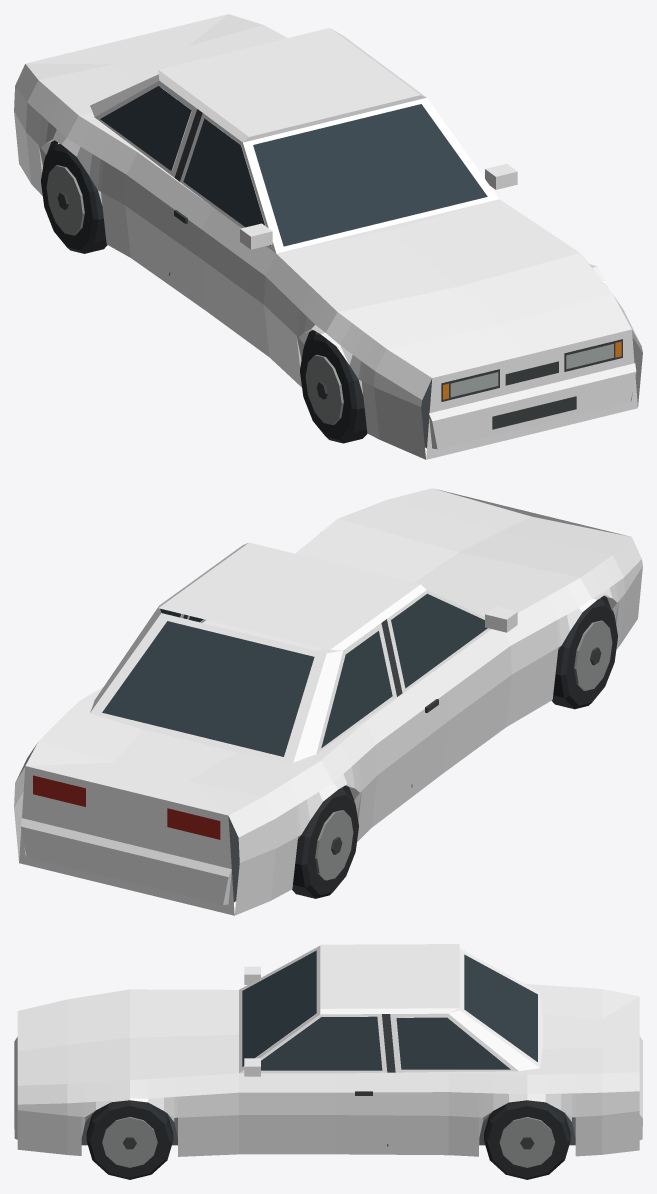
Rendered from tokiwa_seiryu_s.glb.
The picture shows the model from 3 angles, top to bottom: view 1: azimuth 30°, elevation 25°; view 2: azimuth 150°, elevation 25°; view 3: azimuth 270°, elevation 25°; orthographic projection. The views are drawn at different scales.
Parts seen in each view (by area): view 1: tokiwa_seiryu_s; view 2: tokiwa_seiryu_s; view 3: tokiwa_seiryu_s.
Part boxes in pixels (left/top/right/bottom): tokiwa_seiryu_s: left=14, top=14, right=642, bottom=459; tokiwa_seiryu_s: left=14, top=488, right=642, bottom=915; tokiwa_seiryu_s: left=14, top=944, right=642, bottom=1179.
Bounding box in the file's own units: 1.77 × 1.24 × 4.54.
Materials: 8 (1 with a texture image).
